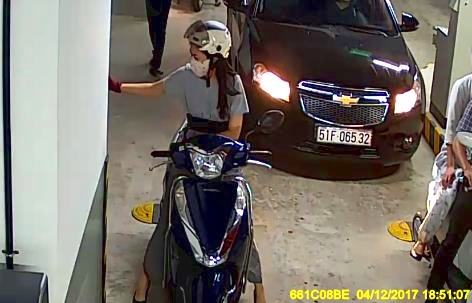plate: (316, 124, 375, 148)
